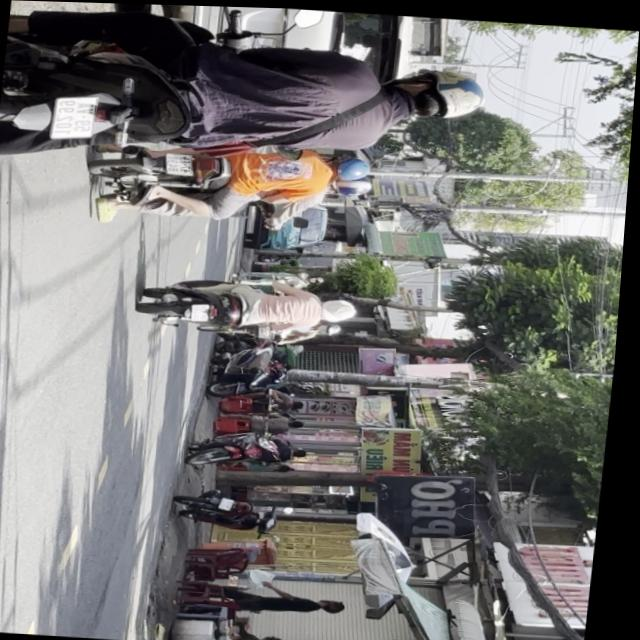helmet: (387, 66, 488, 121), (329, 152, 376, 179), (331, 174, 375, 196)
licenseplate: (0, 0, 497, 189), (87, 133, 382, 230), (139, 270, 367, 339)
motorcyclist: (325, 296, 363, 320)
nohelmet: (54, 94, 100, 138), (168, 150, 197, 174), (194, 301, 215, 319)
